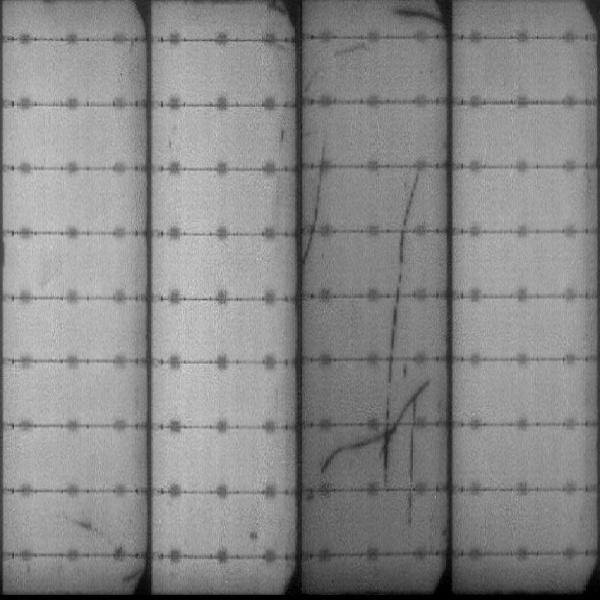scratch: (394, 167, 425, 294), (320, 431, 394, 473), (379, 300, 402, 426), (303, 164, 330, 261), (404, 430, 423, 525), (397, 377, 430, 422), (384, 3, 439, 28), (324, 41, 371, 64), (304, 68, 325, 93)
